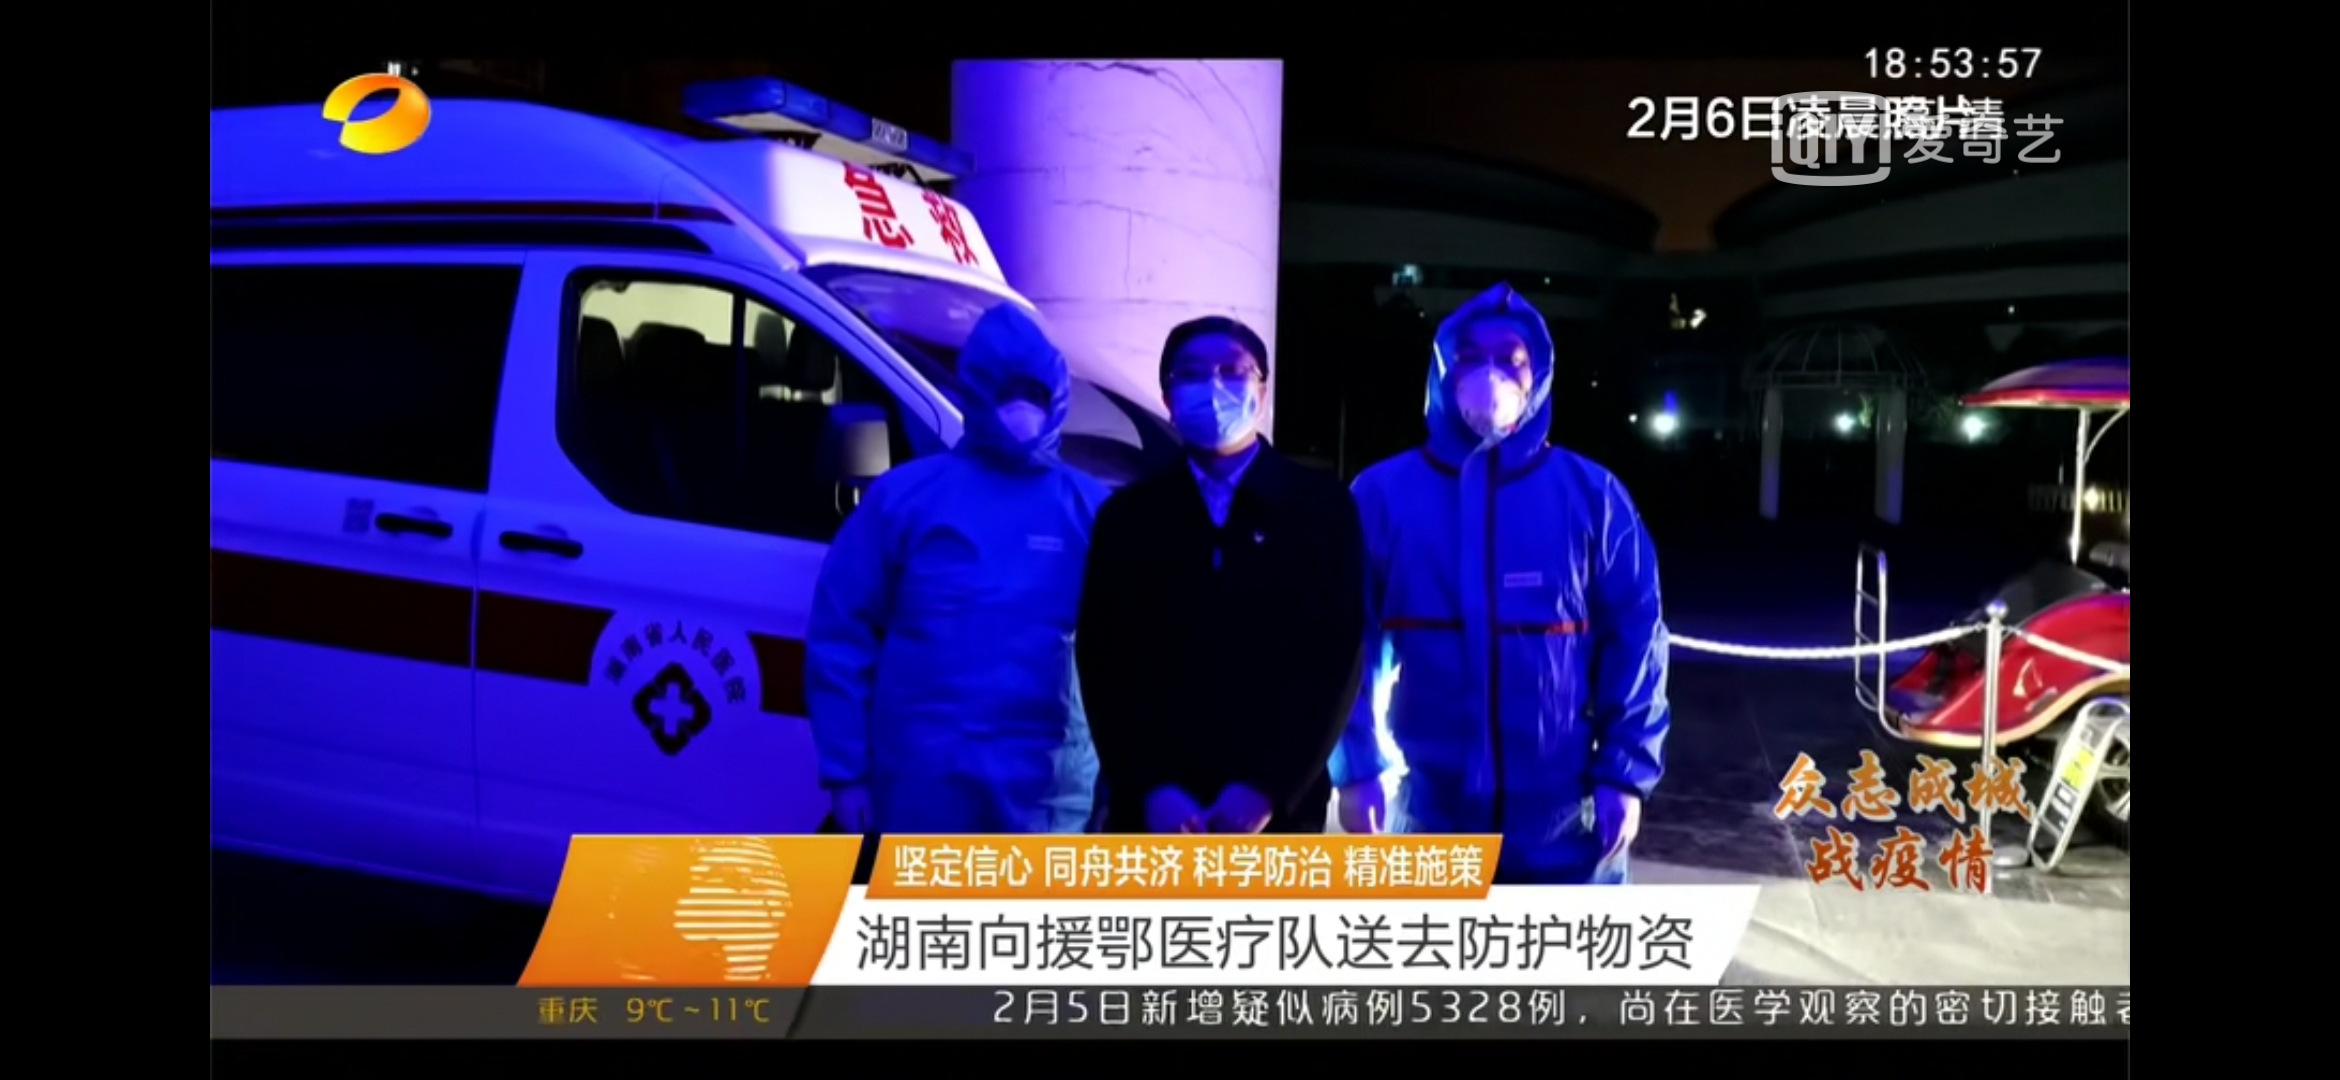correctlyWear: (1437, 330, 1543, 440), (1167, 351, 1274, 458), (970, 368, 1061, 458)
